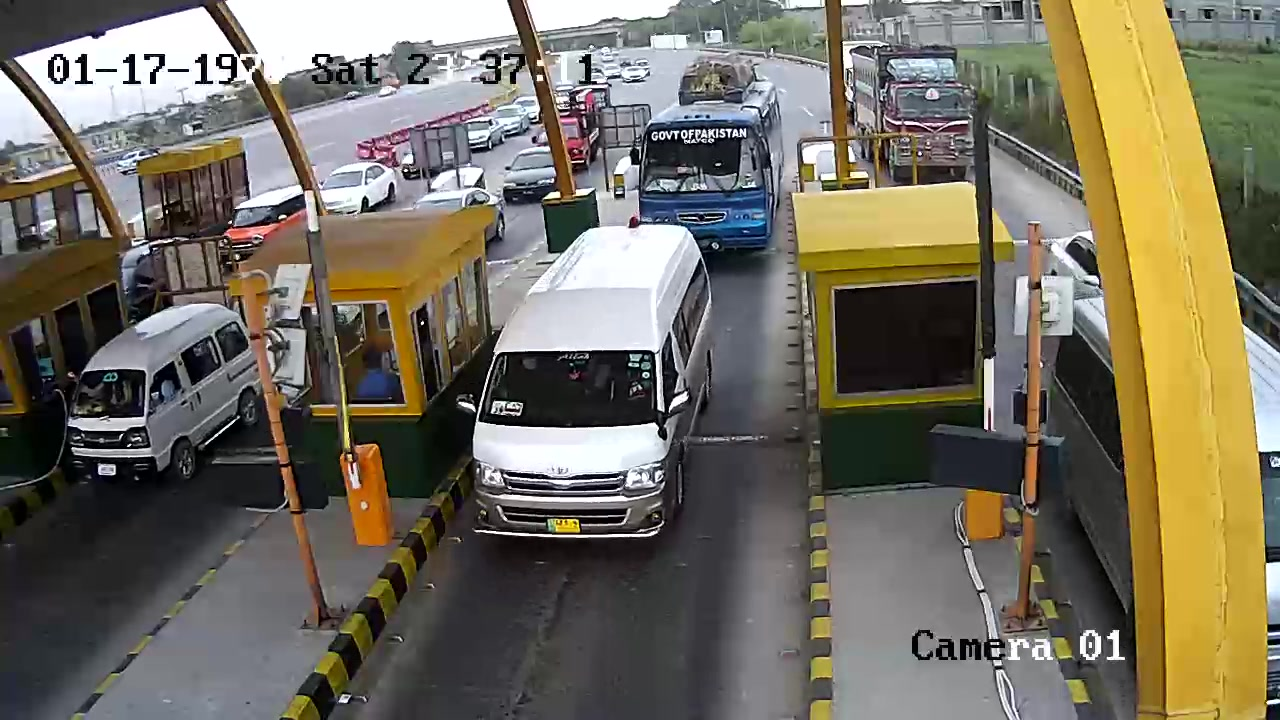F3: (470, 218, 719, 545)
